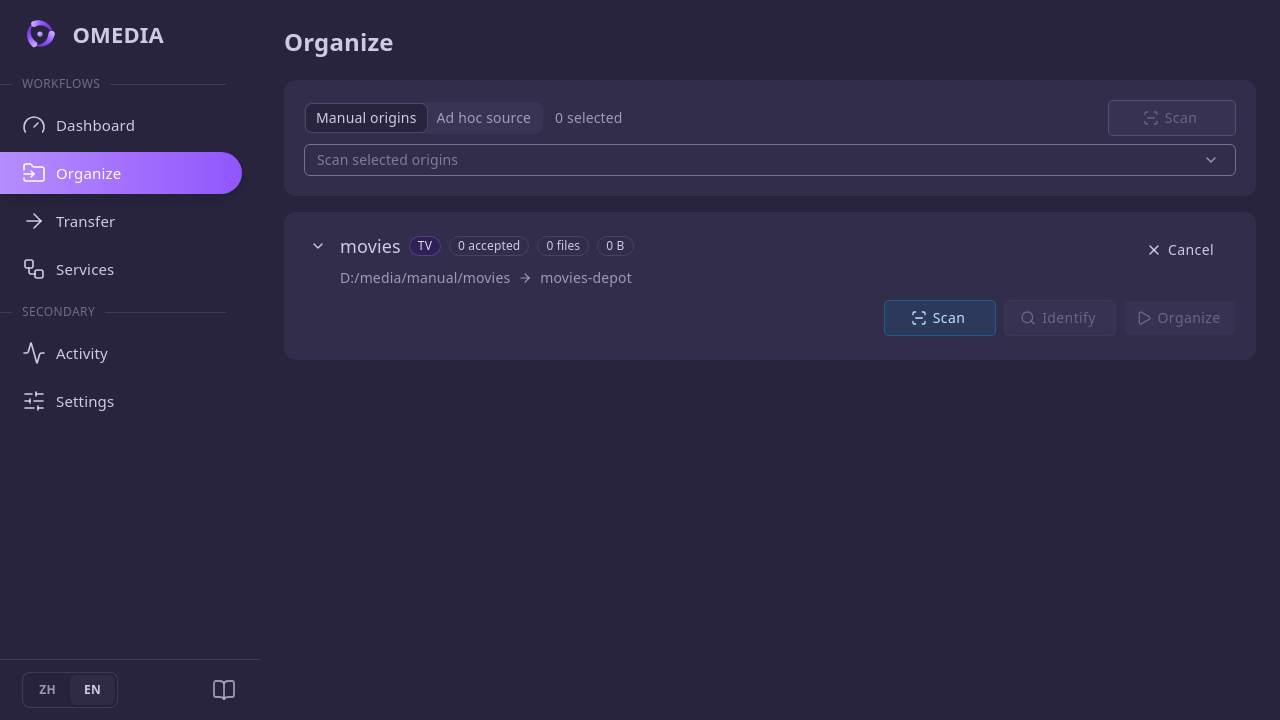
Test case: Organize workflow › keeps TV override at show group level and refreshes previews after apply
Expected: the text "movies" is shown, x1=340 y1=232 x2=401 y2=260
Click the button named "Expand movies" at (318, 246), box x1=304 y1=232 x2=332 y2=260
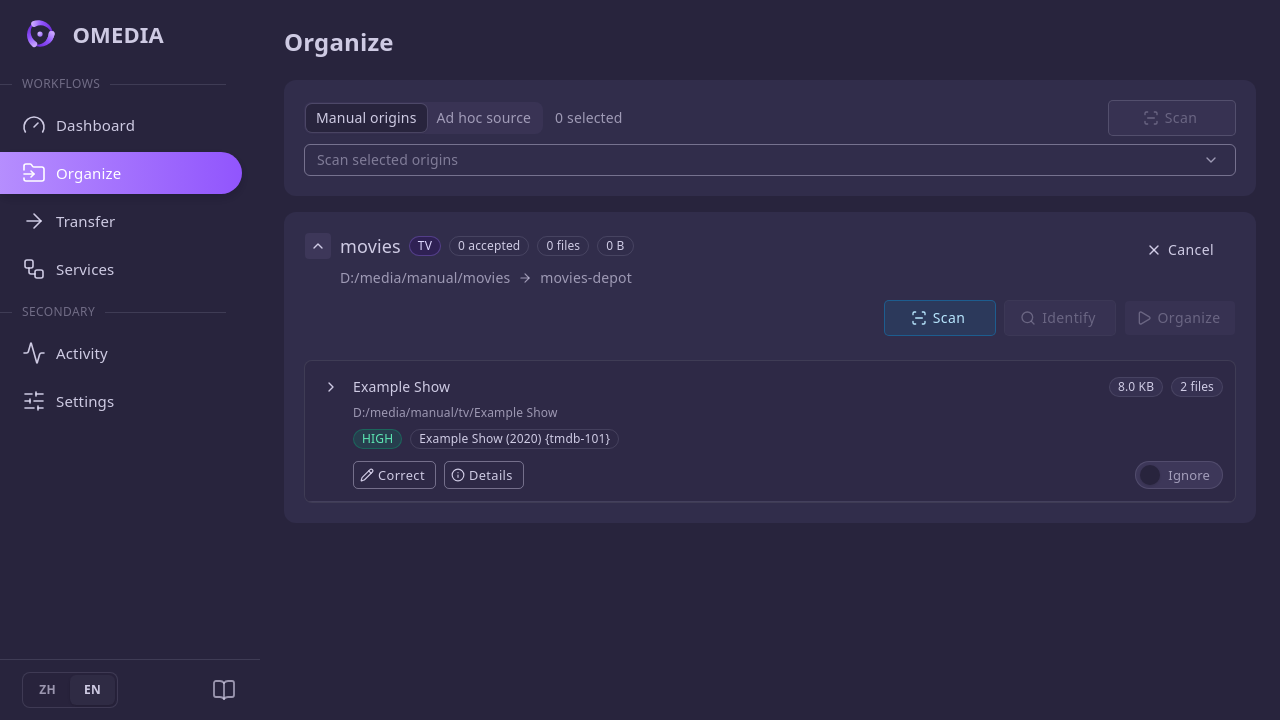
Expected: the button with aria-label "Correct show match" is shown
Click the button with aria-label "Correct show match" at (394, 475), box x1=353 y1=461 x2=436 y2=489
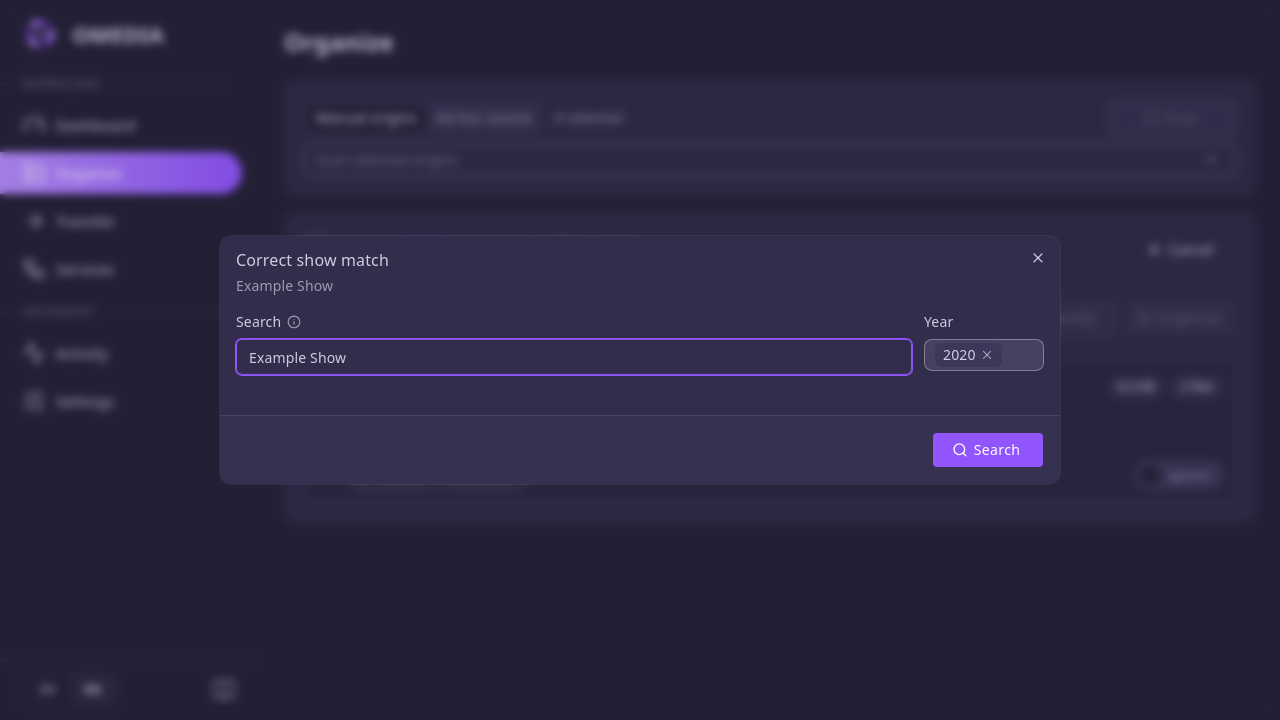
Click the button "Search" at (988, 450), box x1=932 y1=432 x2=1044 y2=468
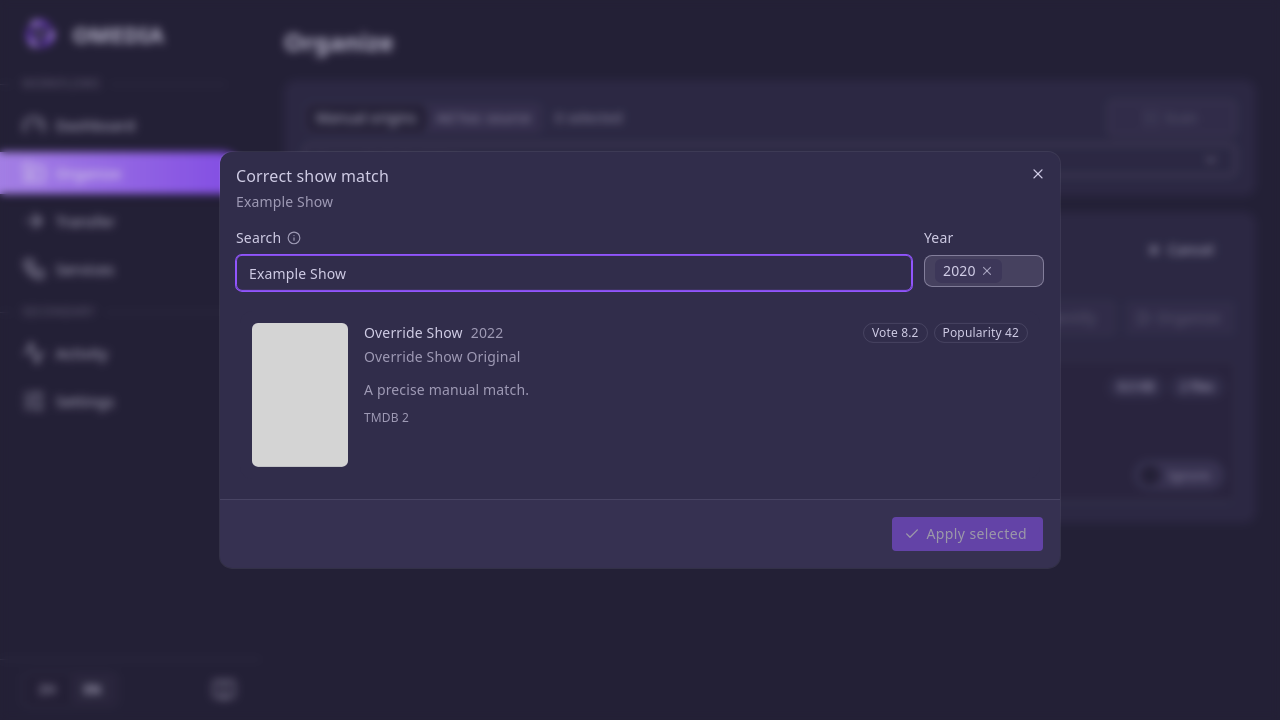
Click the button "Override Show" at (300, 395), box x1=252 y1=323 x2=1028 y2=467
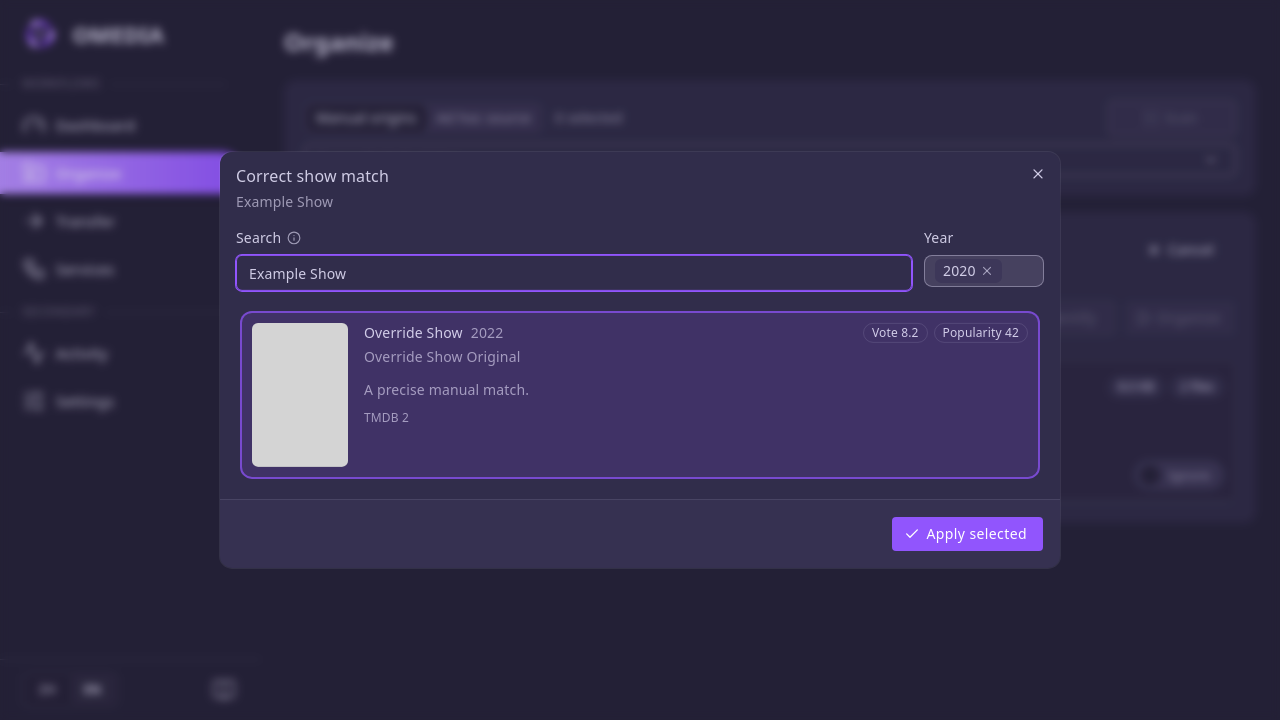
Expected: the button "Override Show" is pressed, x1=252 y1=323 x2=1028 y2=467
Click the button "Apply selected" at (968, 534), box x1=891 y1=516 x2=1044 y2=552
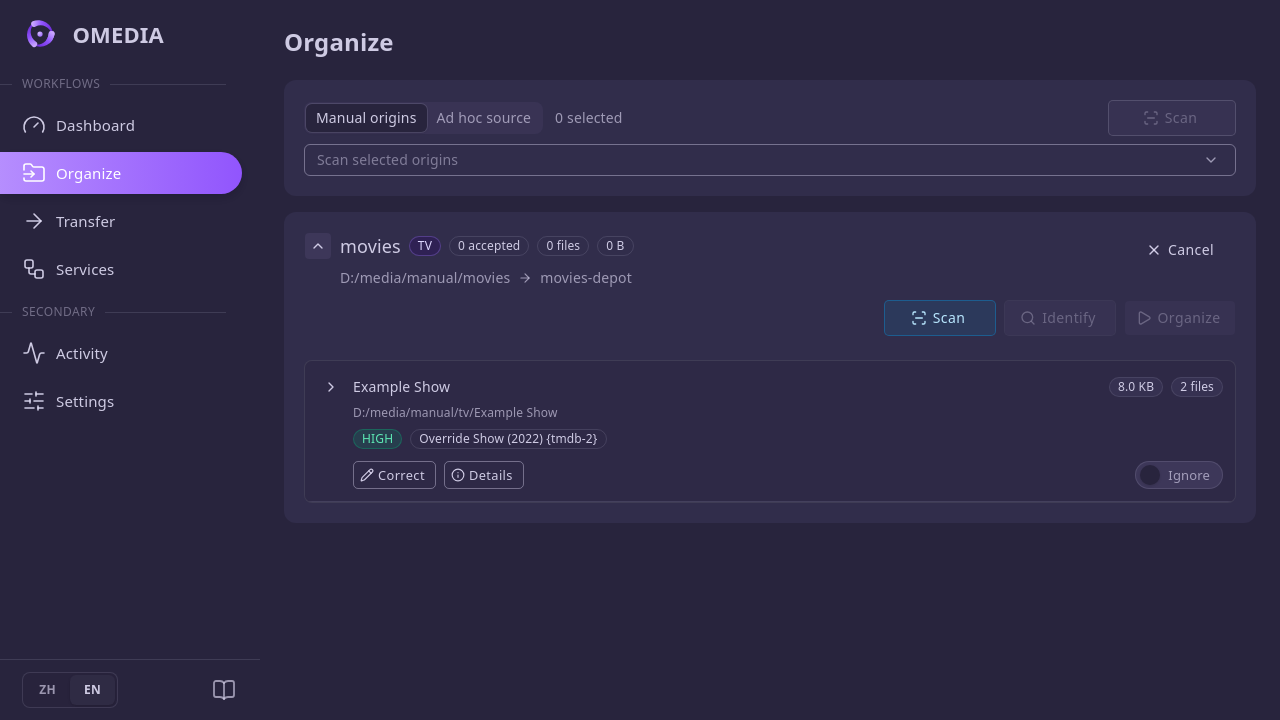
Expected: the text "Override Show (2022) {tmdb-2}" is shown, x1=419 y1=431 x2=598 y2=447
